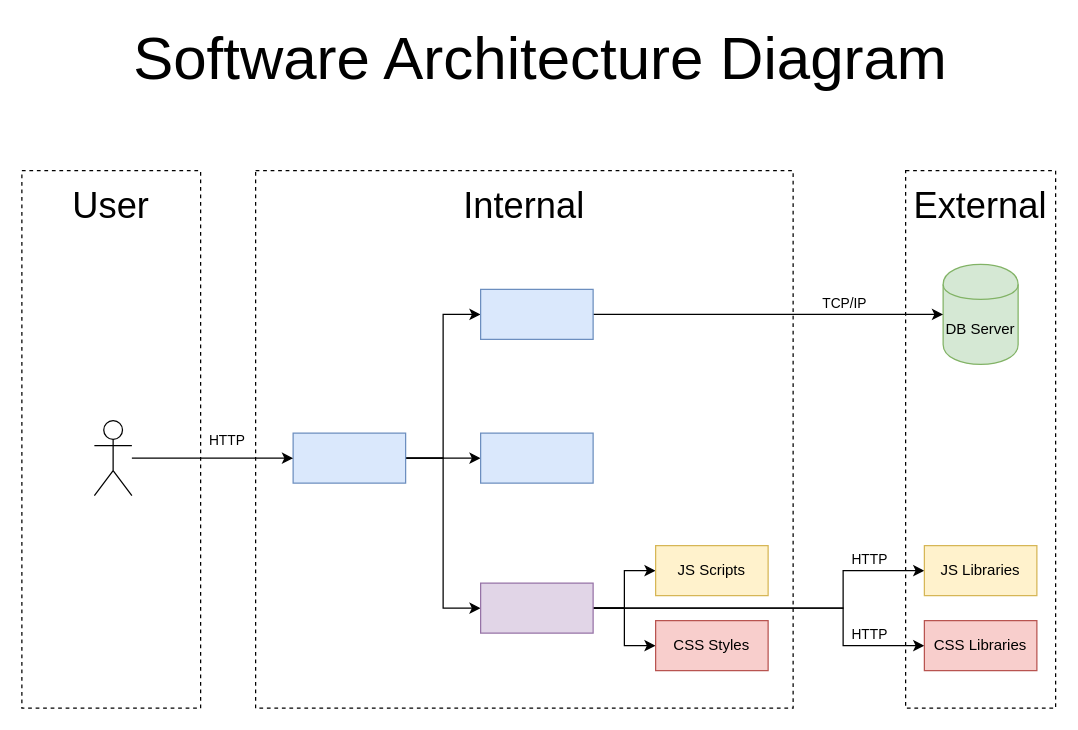
Some shapes in this 1078 by 730 pixel diagram are drawn without their labels. The centre of each missing label's shape, as x and y in pixels:
ai.py: the point at 536,457
db.py: the point at 536,313
HTML Templates: the point at 536,607
main.py: the point at 349,457
